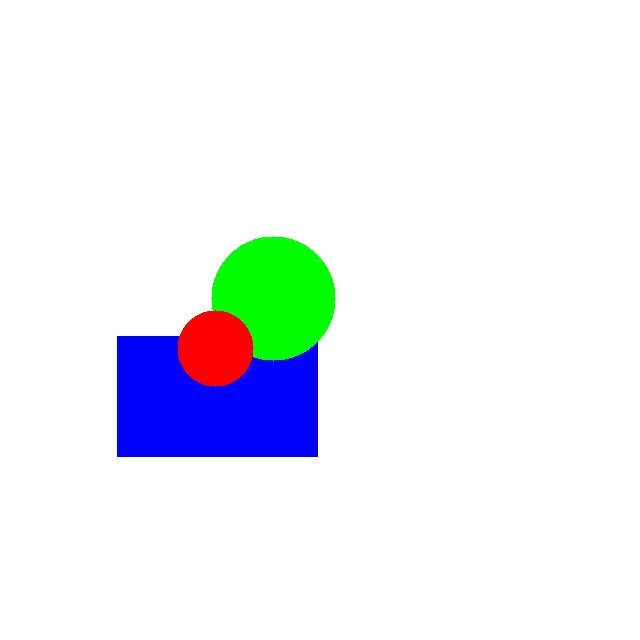cartao: (117, 336, 317, 456)
rosca_externa: (211, 236, 335, 360)
rosca_interna: (177, 310, 253, 386)
